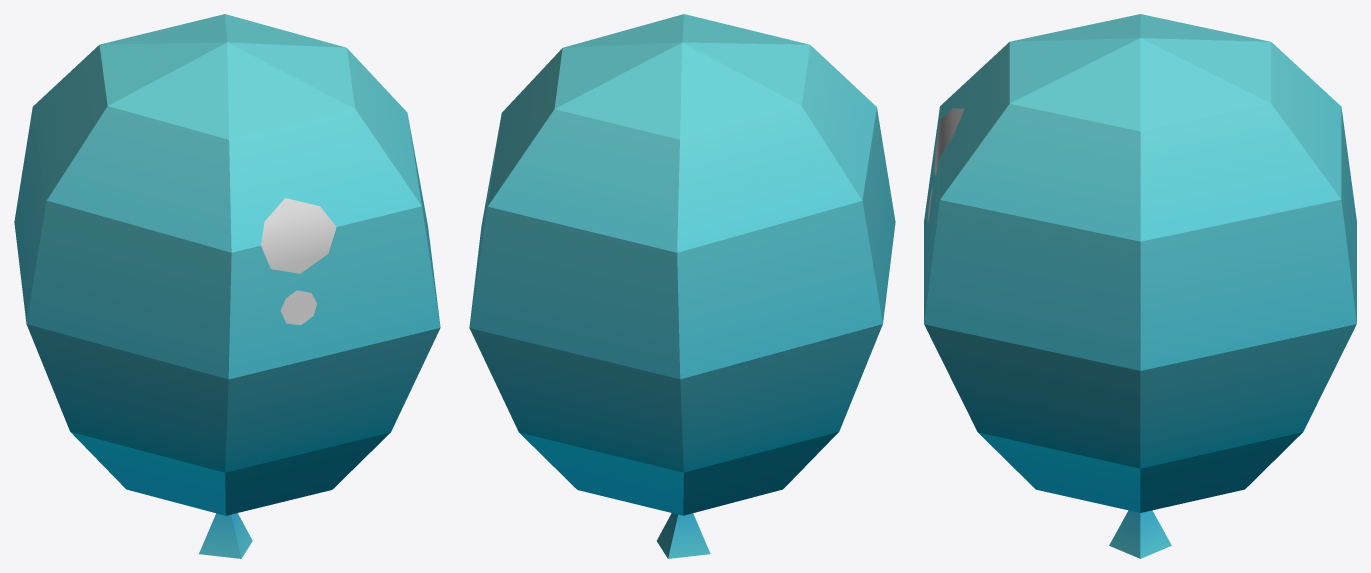
File: HolidayBalloonBlue.glb
The picture shows the model from 3 angles, left to right: view 1: azimuth 30°, elevation 25°; view 2: azimuth 150°, elevation 25°; view 3: azimuth 270°, elevation 25°; orthographic projection.
Parts seen in each view (by area): view 1: HolidayBalloonBlue; view 2: HolidayBalloonBlue; view 3: HolidayBalloonBlue.
Part boxes in pixels (x1,y1,x2,y2): HolidayBalloonBlue: [14, 14, 440, 558]; HolidayBalloonBlue: [469, 14, 895, 558]; HolidayBalloonBlue: [924, 14, 1356, 558].
Bounding box in the file's own units: 0.5473 × 0.6574 × 0.5071.
